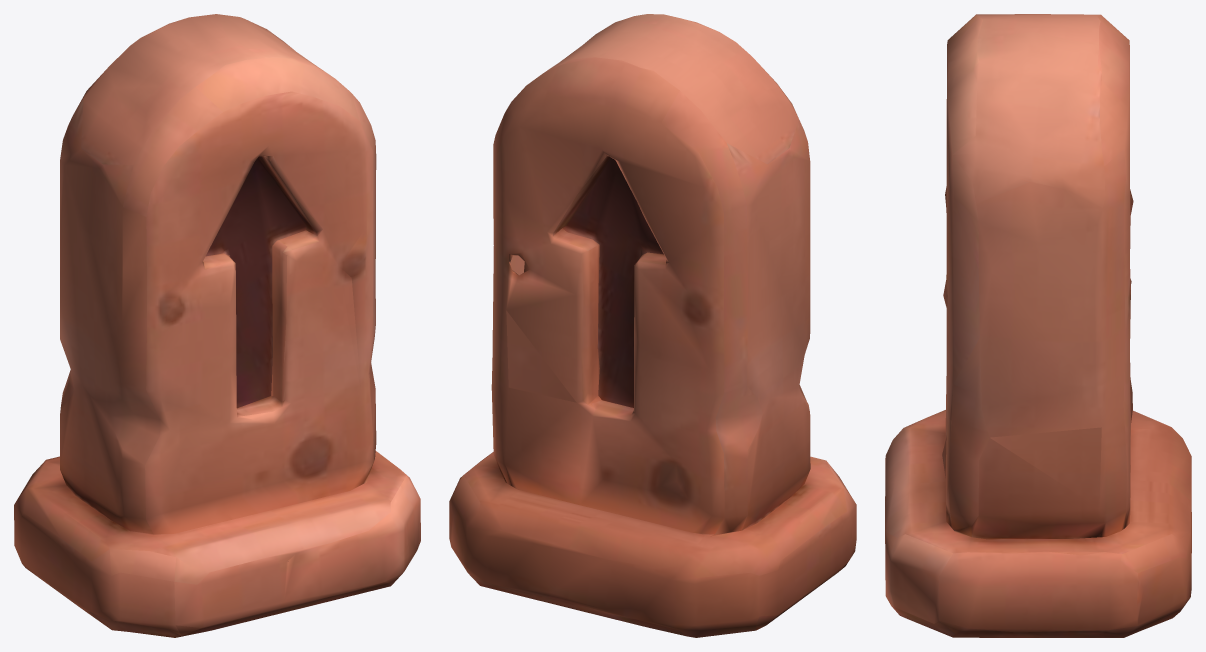
The model's file is lg-road-milestone.glb.
3 views of the same model, side by side, from view 1: azimuth 30°, elevation 25°; view 2: azimuth 150°, elevation 25°; view 3: azimuth 270°, elevation 25° (orthographic). The views are drawn at different scales.
Visible parts, largest first — view 1: geometry_0; view 2: geometry_0; view 3: geometry_0.
Boxes of the visible parts, x1=… form: geometry_0: x1=14, y1=14, x2=420, y2=637; geometry_0: x1=449, y1=14, x2=856, y2=637; geometry_0: x1=885, y1=14, x2=1191, y2=637.
Bounding box in the file's own units: 0.6422 × 1 × 0.5177.
1 material, 1 textured.
